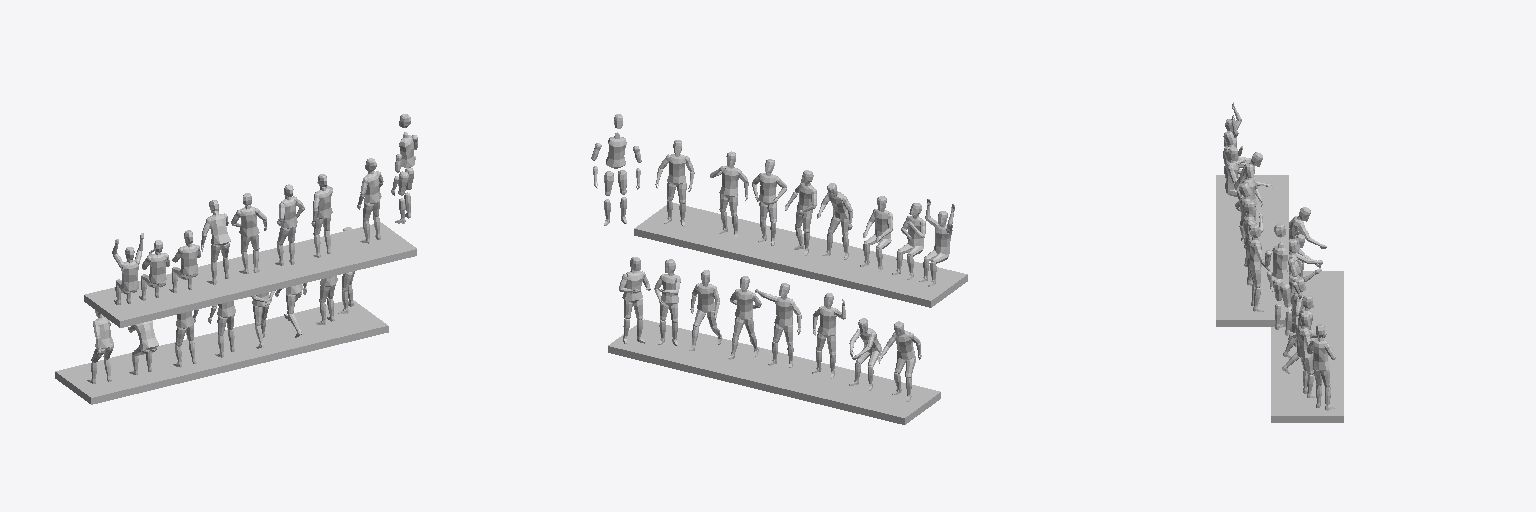
Rendered from guys.obj.
3 views of the same model, side by side, from view 1: azimuth 30°, elevation 25°; view 2: azimuth 150°, elevation 25°; view 3: azimuth 270°, elevation 25° (orthographic).
Parts seen in each view (by area): view 1: group[number redacted], group[number redacted], group[number redacted], group[number redacted], group[number redacted], group[number redacted], group[number redacted], group[number redacted], group[number redacted], group[number redacted], group[number redacted], group[number redacted] (+5 smaller); view 2: group[number redacted], group[number redacted], group[number redacted], group[number redacted], group[number redacted], group[number redacted], group[number redacted], group[number redacted], group[number redacted], group[number redacted], group[number redacted], group[number redacted] (+7 smaller); view 3: group[number redacted], group[number redacted], group[number redacted], group[number redacted], group[number redacted], group[number redacted], group[number redacted], group[number redacted], group[number redacted].
Boxes of the visible parts, box(x1,y1,x2,y2) form: group[number redacted]: box(55, 300, 388, 404); group[number redacted]: box(84, 222, 416, 327); group[number redacted]: box(231, 193, 266, 273); group[number redacted]: box(201, 200, 230, 284); group[number redacted]: box(357, 158, 383, 243); group[number redacted]: box(275, 184, 304, 265); group[number redacted]: box(311, 174, 332, 257); group[number redacted]: box(112, 233, 143, 304); group[number redacted]: box(139, 240, 169, 300); group[number redacted]: box(169, 230, 200, 292); group[number redacted]: box(87, 310, 113, 383); group[number redacted]: box(128, 320, 158, 374); group[number redacted]: box(608, 319, 940, 424); group[number redacted]: box(634, 202, 967, 307); group[number redacted]: box(655, 140, 694, 226); group[number redacted]: box(755, 283, 801, 367); group[number redacted]: box(619, 257, 650, 343); group[number redacted]: box(752, 159, 786, 245); group[number redacted]: box(878, 321, 921, 401); group[number redacted]: box(812, 293, 845, 378); group[number redacted]: box(710, 151, 748, 236); group[number redacted]: box(654, 259, 680, 345); group[number redacted]: box(689, 270, 721, 350); group[number redacted]: box(728, 276, 761, 359); group[number redacted]: box(1216, 175, 1288, 326); group[number redacted]: box(1271, 271, 1343, 422); group[number redacted]: box(1307, 324, 1335, 410); group[number redacted]: box(1246, 224, 1272, 311); group[number redacted]: box(1297, 312, 1326, 398); group[number redacted]: box(1289, 207, 1326, 276); group[number redacted]: box(1283, 278, 1305, 357); group[number redacted]: box(1225, 147, 1256, 209); group[number redacted]: box(1239, 201, 1263, 285).
Size of the model in its own units: 8.15 by 4.83 by 2.68.